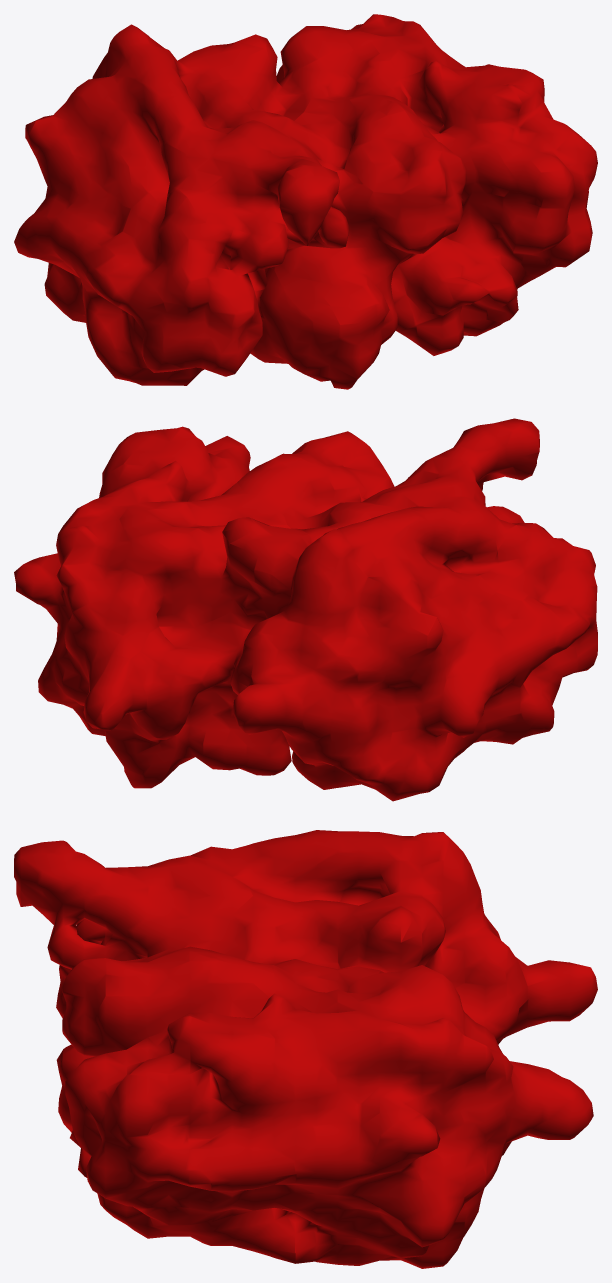
File: CoarseMS_4av3.fbx
3 renders of one model, top to bottom at view 1: azimuth 30°, elevation 25°; view 2: azimuth 150°, elevation 25°; view 3: azimuth 270°, elevation 25°, orthographic. The views are drawn at different scales.
Visible parts, largest first — view 1: CoarseMS_4av3_mesh; view 2: CoarseMS_4av3_mesh; view 3: CoarseMS_4av3_mesh.
Boxes of the visible parts, <box> form: CoarseMS_4av3_mesh: <box>14,14,597,389</box>; CoarseMS_4av3_mesh: <box>14,418,597,801</box>; CoarseMS_4av3_mesh: <box>14,830,597,1268</box>.
Bounding box in the file's own units: 96.8 × 58.64 × 93.17.
